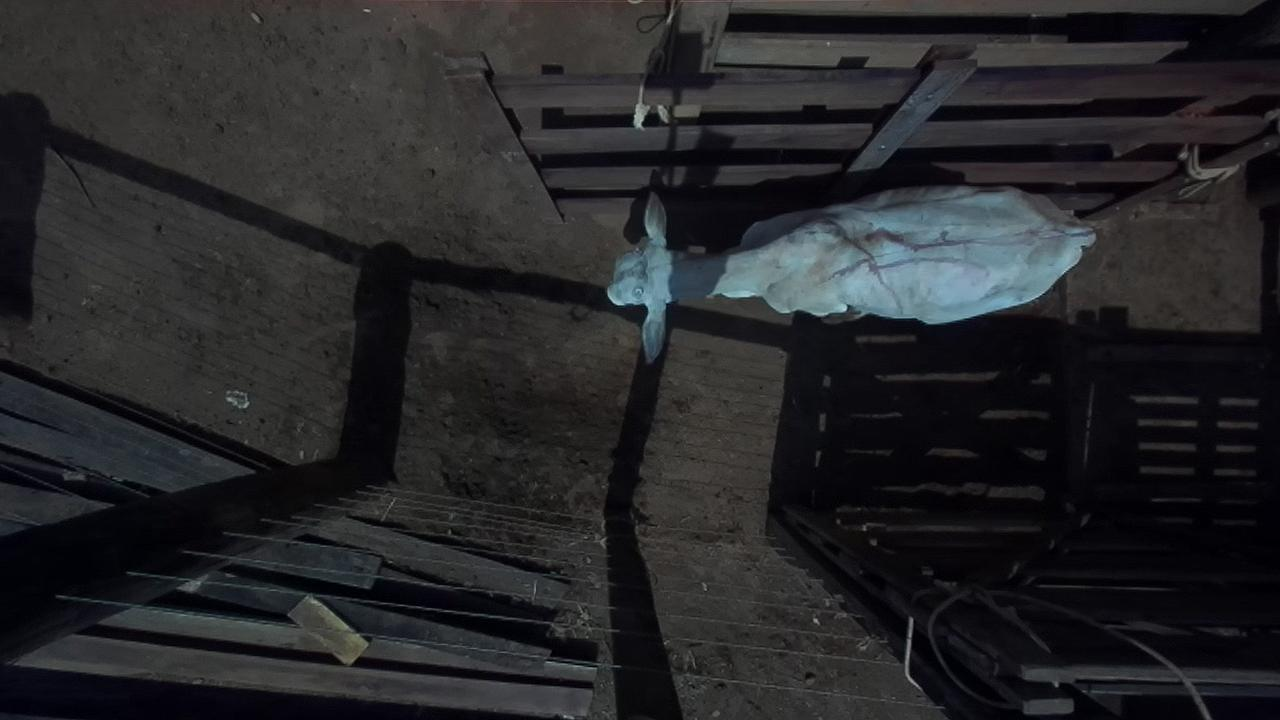cattle: (605, 181, 1097, 363)
